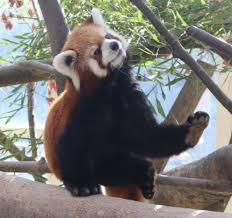redPanda: (43, 6, 208, 207)
